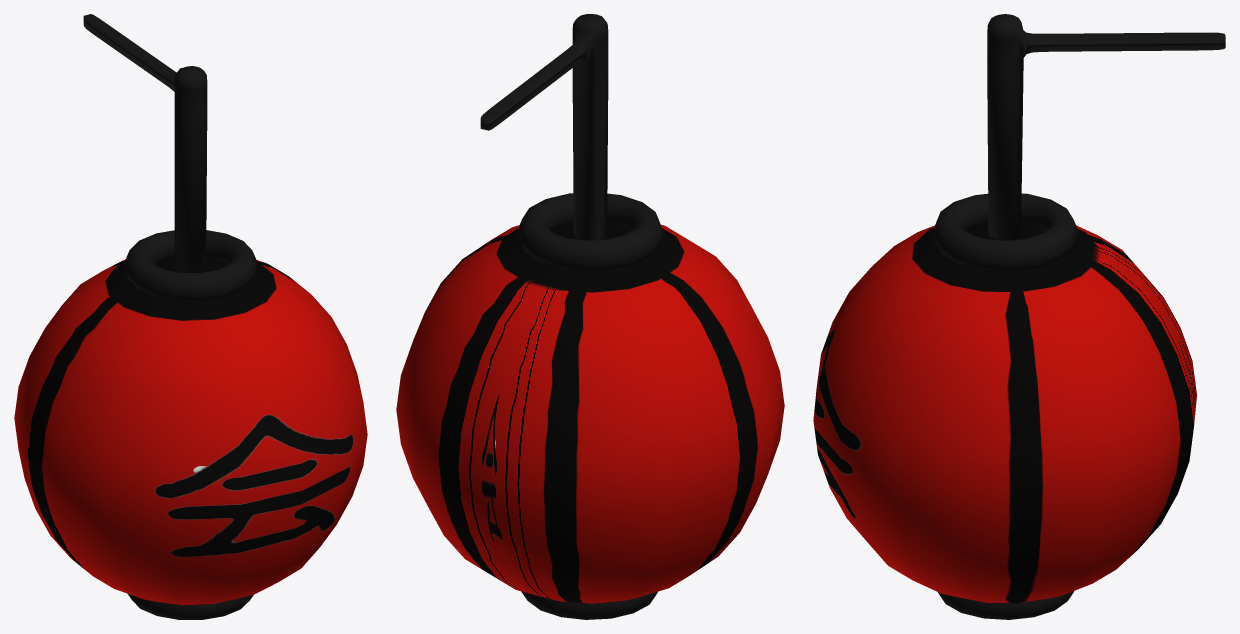
File: SM_Lantern_low.fbx
3 renders of one model, left to right at view 1: azimuth 30°, elevation 25°; view 2: azimuth 150°, elevation 25°; view 3: azimuth 270°, elevation 25°, orthographic. The views are drawn at different scales.
Visible parts, largest first — view 1: Lamp, Hook, Ring.002, Ring; view 2: Lamp, Hook, Ring.002, Ring; view 3: Lamp, Hook, Ring.002, Ring.
Boxes of the visible parts, bbox=[...] form: Lamp: bbox=[14, 256, 367, 605]; Hook: bbox=[83, 14, 207, 272]; Ring.002: bbox=[125, 230, 256, 301]; Ring: bbox=[128, 594, 253, 619]; Lamp: bbox=[396, 221, 784, 603]; Hook: bbox=[480, 14, 608, 240]; Ring.002: bbox=[517, 193, 663, 271]; Ring: bbox=[521, 591, 657, 619]; Lamp: bbox=[813, 221, 1196, 603]; Hook: bbox=[987, 14, 1225, 240]; Ring.002: bbox=[932, 193, 1077, 271]; Ring: bbox=[938, 591, 1073, 619].
Size of the model in its own units: 19.12 by 31.75 by 20.54.
